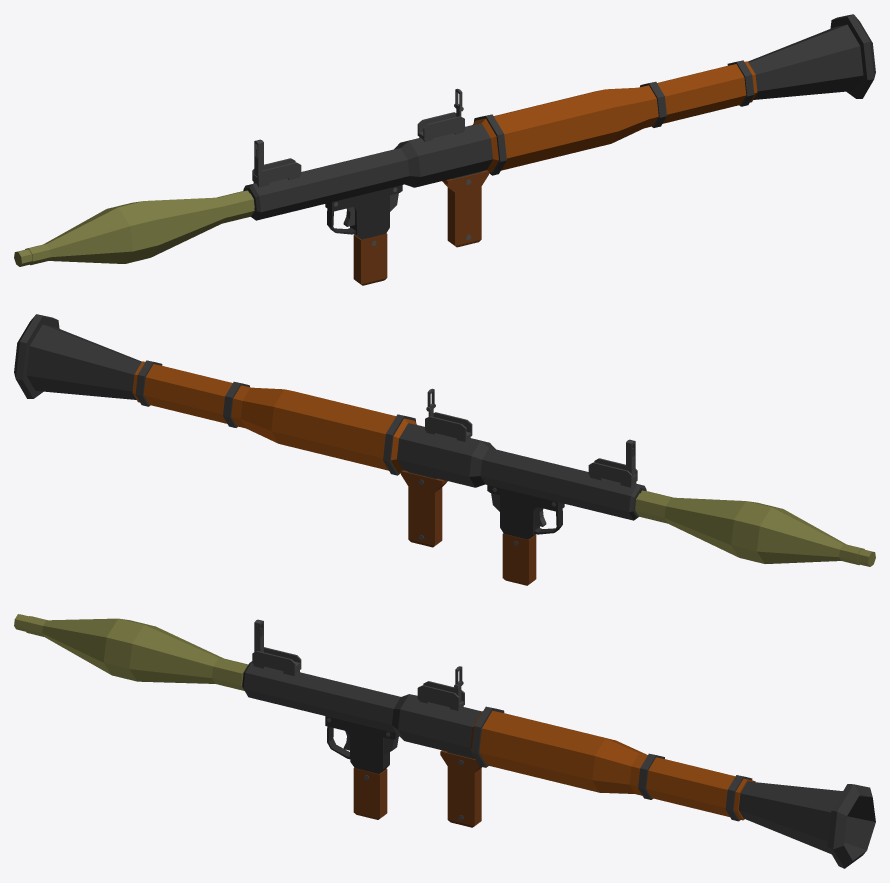
File: RPG-7.fbx
3 views of the same model, one above another, from view 1: azimuth 30°, elevation 25°; view 2: azimuth 150°, elevation 25°; view 3: azimuth 330°, elevation 25° (orthographic).
Visible parts, largest first — view 1: RPG-7, Rocket; view 2: RPG-7, Rocket; view 3: RPG-7, Rocket.
Part boxes in pixels (box(x1,y1,x2,y2)): RPG-7: box(243, 14, 875, 285); Rocket: box(14, 190, 254, 266); RPG-7: box(14, 314, 646, 585); Rocket: box(635, 490, 875, 566); RPG-7: box(242, 619, 875, 868); Rocket: box(14, 614, 248, 690).
Bounding box in the file's own units: 973 × 187 × 82.07.
Materials: 1 (1 with a texture image).
